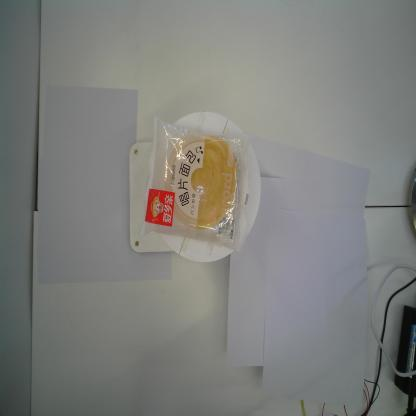Dessert: (138, 114, 256, 259)
